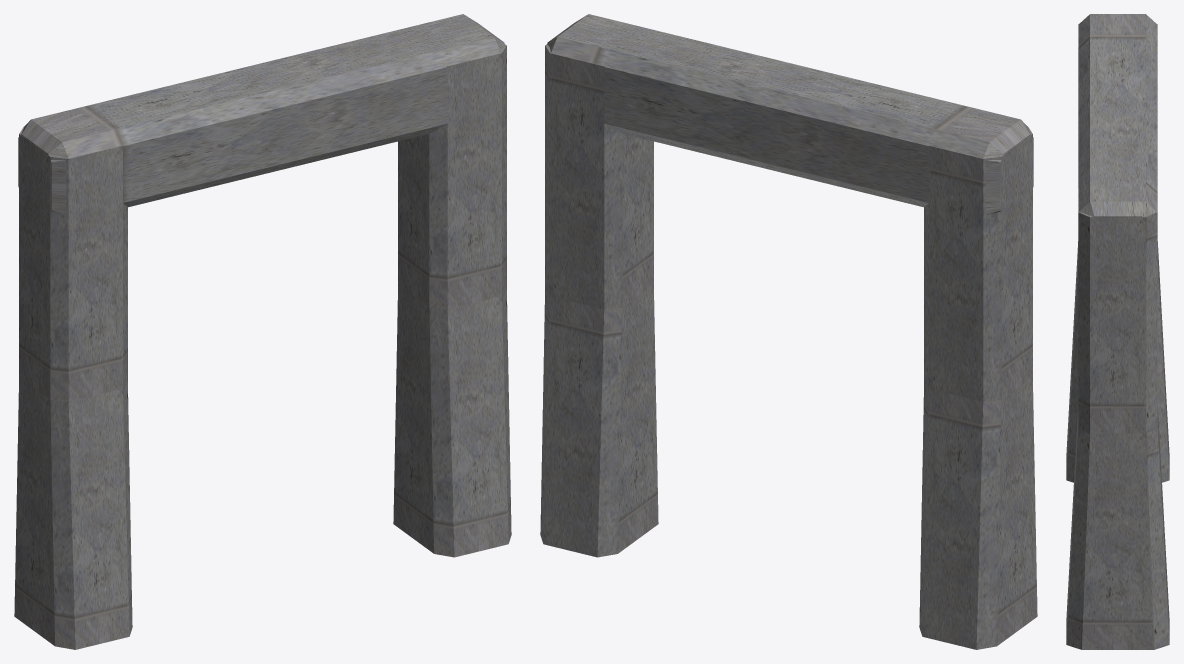
File: stoneGate.gltf
The picture shows the model from 3 angles, left to right: view 1: azimuth 30°, elevation 25°; view 2: azimuth 150°, elevation 25°; view 3: azimuth 270°, elevation 25°; orthographic projection. The views are drawn at different scales.
Visible parts, largest first — view 1: stonePillar; view 2: stonePillar; view 3: stonePillar.
Boxes of the visible parts, x1,y1,x2,y2 form: stonePillar: [14, 14, 511, 649]; stonePillar: [540, 14, 1037, 649]; stonePillar: [1066, 14, 1169, 649].
Size of the model in its own units: 2.15 by 2.24 by 0.474.
Materials: 1 (1 with a texture image).
